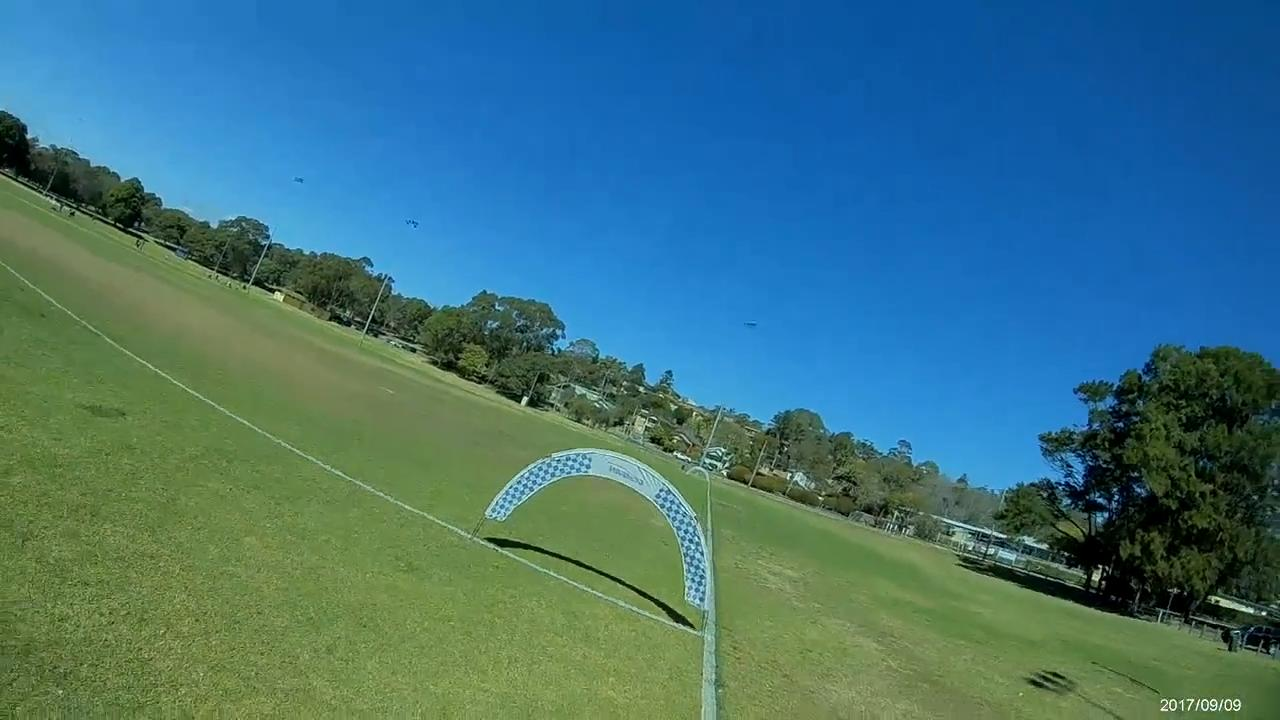gate: (487, 447, 712, 611)
